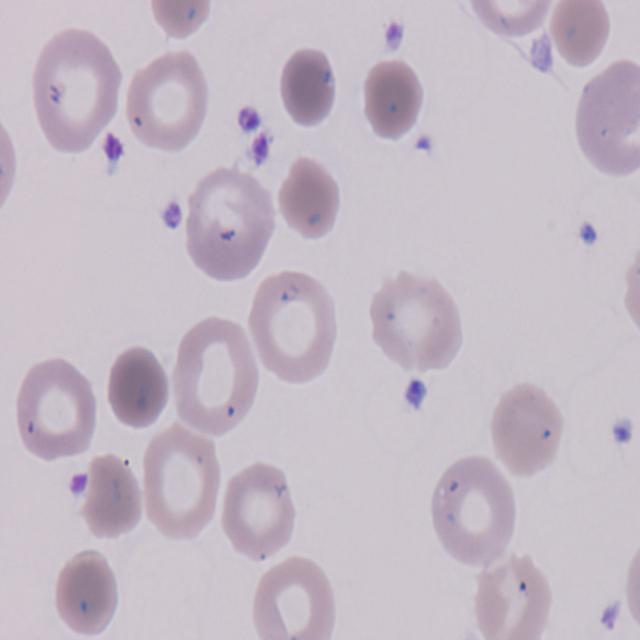Platelets: (400, 373, 430, 414)
RBC: (180, 150, 276, 286), (30, 23, 126, 156), (170, 312, 264, 438), (246, 266, 342, 387), (429, 452, 520, 570), (137, 421, 223, 544), (368, 270, 462, 376), (125, 45, 212, 156), (15, 356, 101, 458), (571, 61, 640, 180), (220, 458, 296, 566), (486, 380, 568, 480), (250, 552, 340, 640), (469, 551, 553, 640), (464, 0, 562, 42), (143, 0, 222, 45), (0, 75, 20, 236)
Spherocyte: (274, 148, 346, 246), (50, 547, 122, 640), (102, 343, 174, 433), (358, 54, 429, 144), (276, 46, 340, 130), (547, 0, 615, 71)
